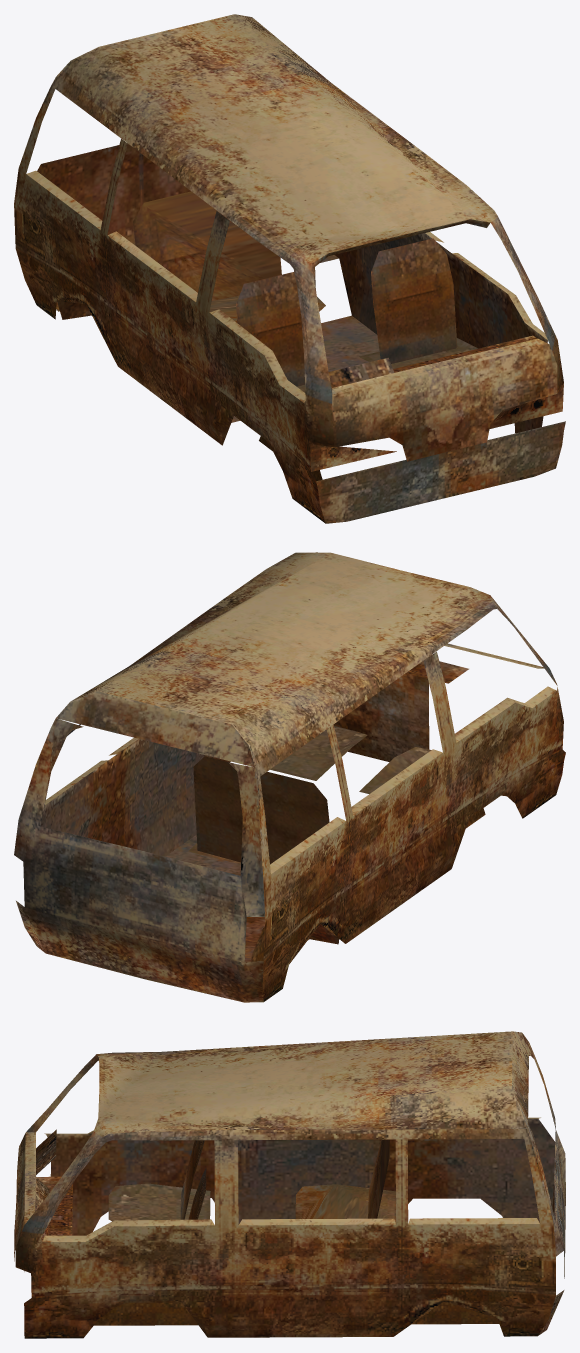
The model's file is Prop_Wj034_lod1.glb.
3 views of the same model, one above another, from view 1: azimuth 30°, elevation 25°; view 2: azimuth 150°, elevation 25°; view 3: azimuth 270°, elevation 25° (orthographic). The views are drawn at different scales.
Visible parts, largest first — view 1: xiutz_wj034_lod0; view 2: xiutz_wj034_lod0; view 3: xiutz_wj034_lod0.
Part boxes in pixels (left/top/right/bottom): xiutz_wj034_lod0: left=14, top=14, right=565, bottom=523; xiutz_wj034_lod0: left=14, top=552, right=565, bottom=1002; xiutz_wj034_lod0: left=14, top=1031, right=565, bottom=1338.
Bounding box in the file's own units: 2.24 × 2.21 × 4.76.
1 material, 1 textured.
